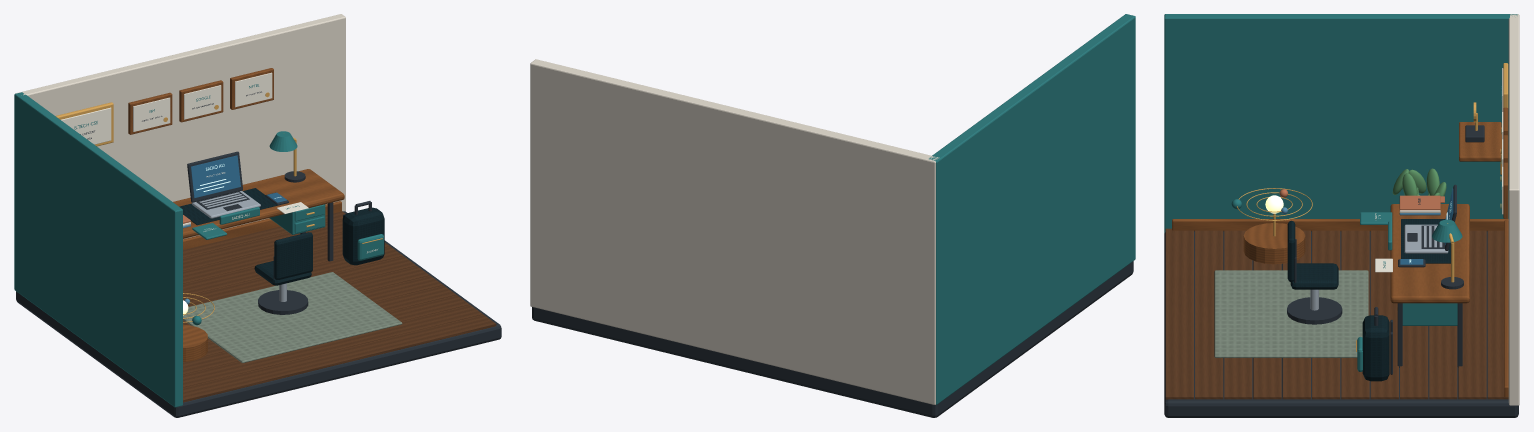
File: studio.glb
3 views of the same model, side by side, from view 1: azimuth 30°, elevation 25°; view 2: azimuth 150°, elevation 25°; view 3: azimuth 270°, elevation 25° (orthographic). The views are drawn at different scales.
Parts seen in each view (by area): view 1: Left_Wall, Back_Wall, Rug, Floor_Platform, Floor_Plank_00, Floor_Plank_01, Desk_Top, Floor_Plank_07, Floor_Plank_10, Bag_Body, Floor_Plank_02, Chair_Back (+26 smaller); view 2: Back_Wall, Left_Wall, Floor_Platform; view 3: Left_Wall, Rug, Floor_Platform, Floor_Plank_00, Back_Wall, Desk_Top, Floor_Plank_01, Floor_Plank_10, Floor_Plank_11, Floor_Plank_07, Left_Skirting, Floor_Plank_06 (+23 smaller).
Part boxes in pixels (x1,y1,x2,y2): Left_Wall: (14, 92, 182, 407); Back_Wall: (15, 14, 345, 239); Rug: (183, 272, 402, 363); Floor_Platform: (16, 211, 501, 417); Floor_Plank_00: (183, 314, 496, 402); Floor_Plank_01: (183, 305, 482, 387); Desk_Top: (173, 169, 344, 238); Floor_Plank_07: (183, 246, 402, 306); Floor_Plank_10: (183, 219, 342, 270); Bag_Body: (342, 207, 384, 265); Floor_Plank_02: (183, 295, 469, 374); Chair_Back: (274, 232, 312, 279); Back_Wall: (530, 59, 939, 404); Left_Wall: (929, 14, 1135, 404); Floor_Platform: (532, 261, 1133, 417); Left_Wall: (1164, 14, 1517, 233); Rug: (1214, 270, 1368, 357); Floor_Platform: (1164, 231, 1518, 417); Floor_Plank_00: (1165, 228, 1193, 399); Back_Wall: (1508, 14, 1519, 405); Desk_Top: (1390, 204, 1469, 303); Floor_Plank_01: (1195, 230, 1223, 399); Floor_Plank_10: (1458, 230, 1486, 399); Floor_Plank_11: (1487, 230, 1508, 399); Floor_Plank_07: (1370, 230, 1398, 399); Left_Skirting: (1172, 219, 1508, 231); Floor_Plank_06: (1341, 230, 1369, 399).
Size of the model in its own units: 5.41 by 3.29 by 4.61.
Materials: 16 (4 with a texture image).
